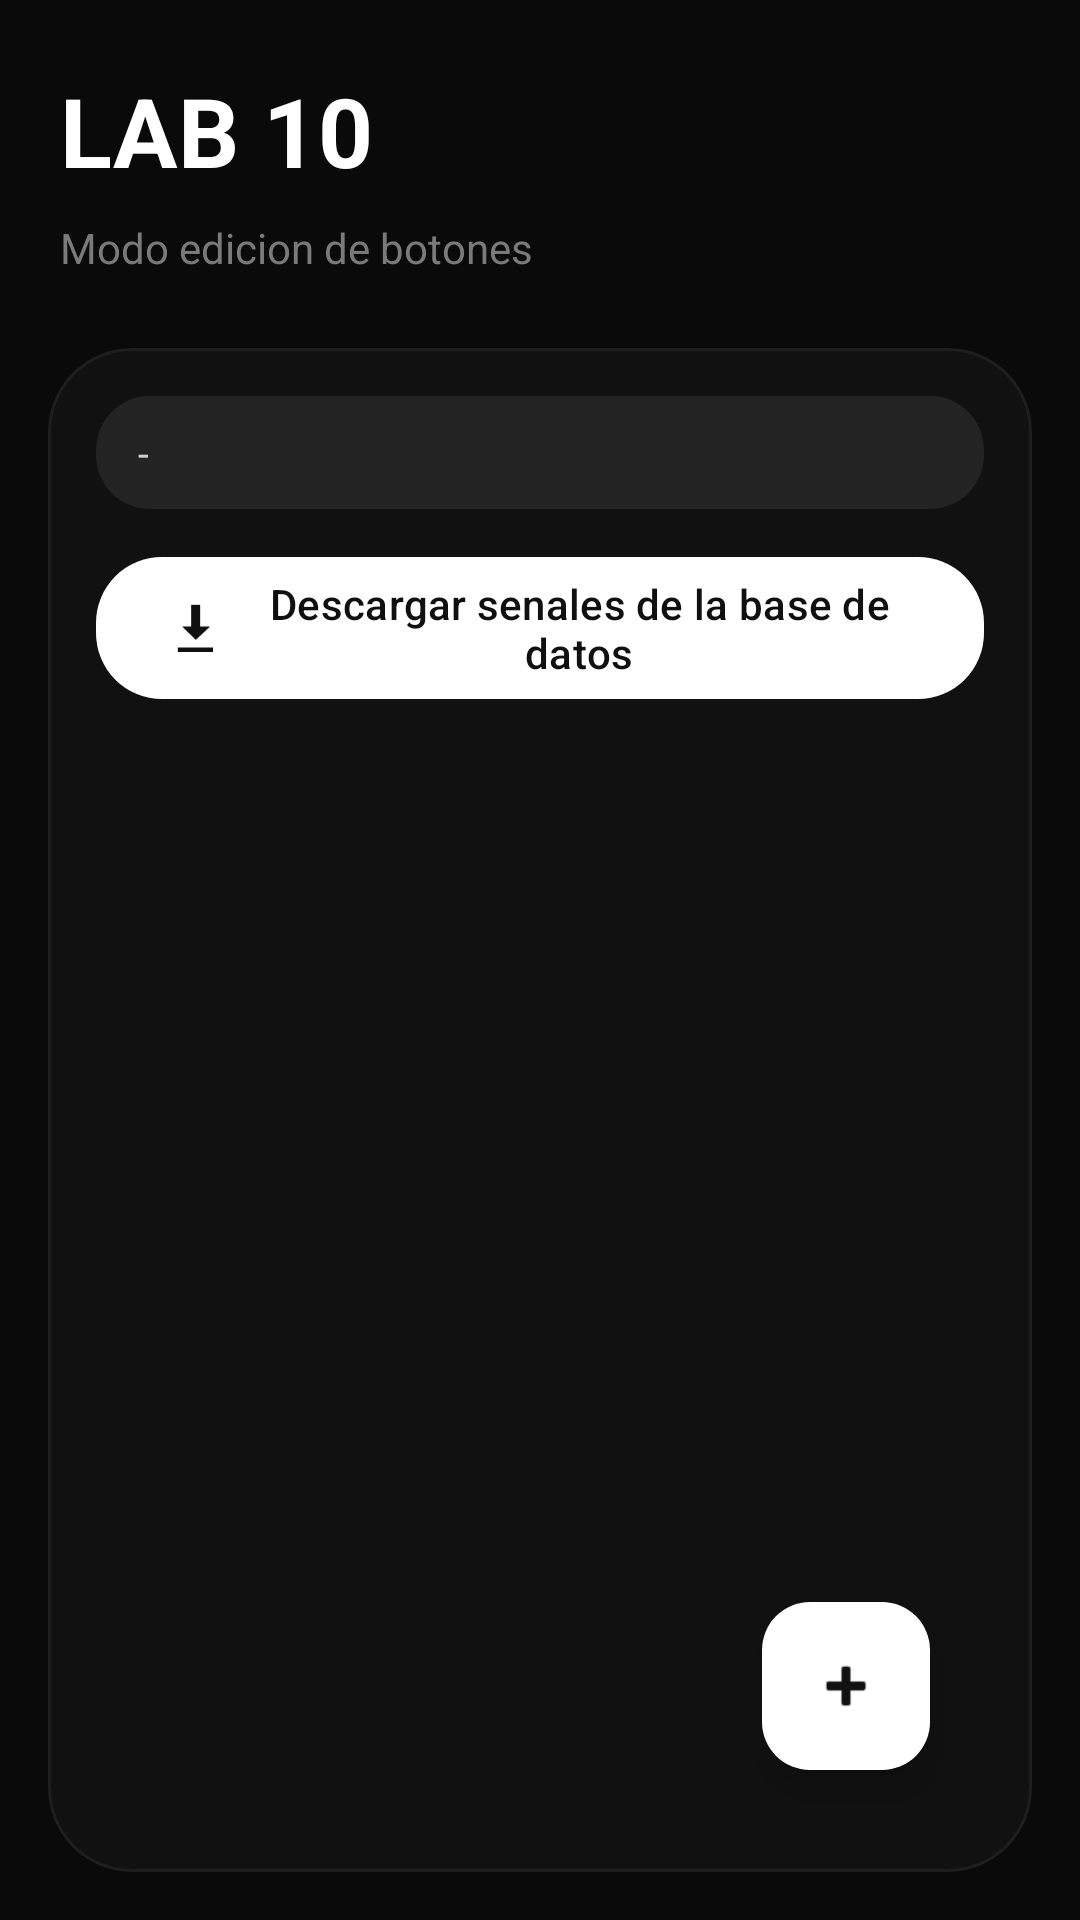

Named icons in this screenshot (1080px x 1920px) and their centers, (x=x, y=y):
add: (x=846, y=1686)
